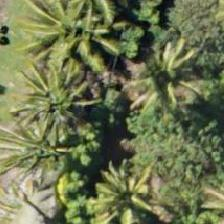coconut_tree: (12, 45, 102, 135), (120, 28, 210, 118), (0, 103, 88, 193), (76, 150, 166, 223), (24, 0, 114, 71)
